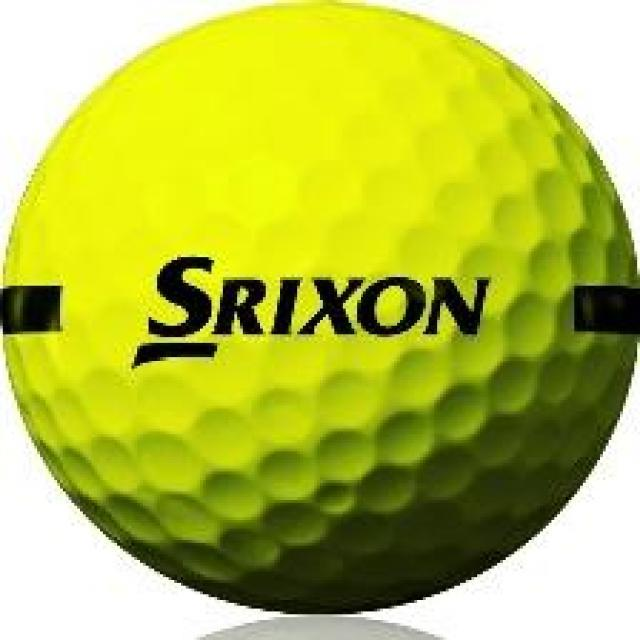golfball: (9, 0, 628, 609)
